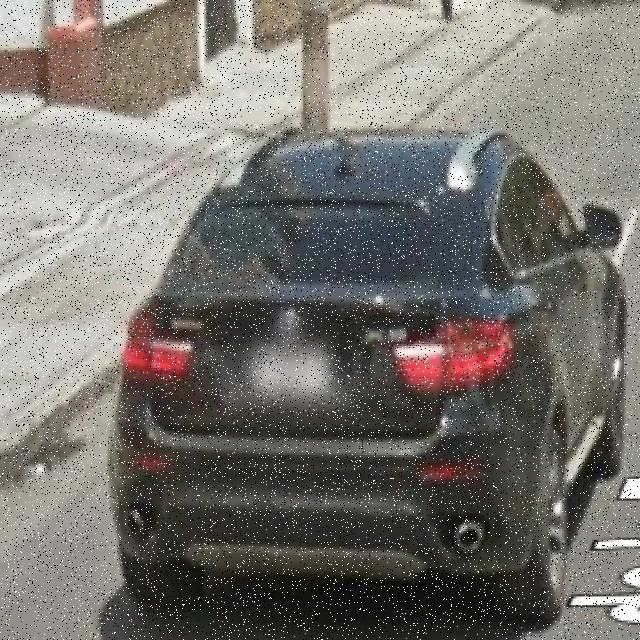cars: (119, 133, 622, 622)
